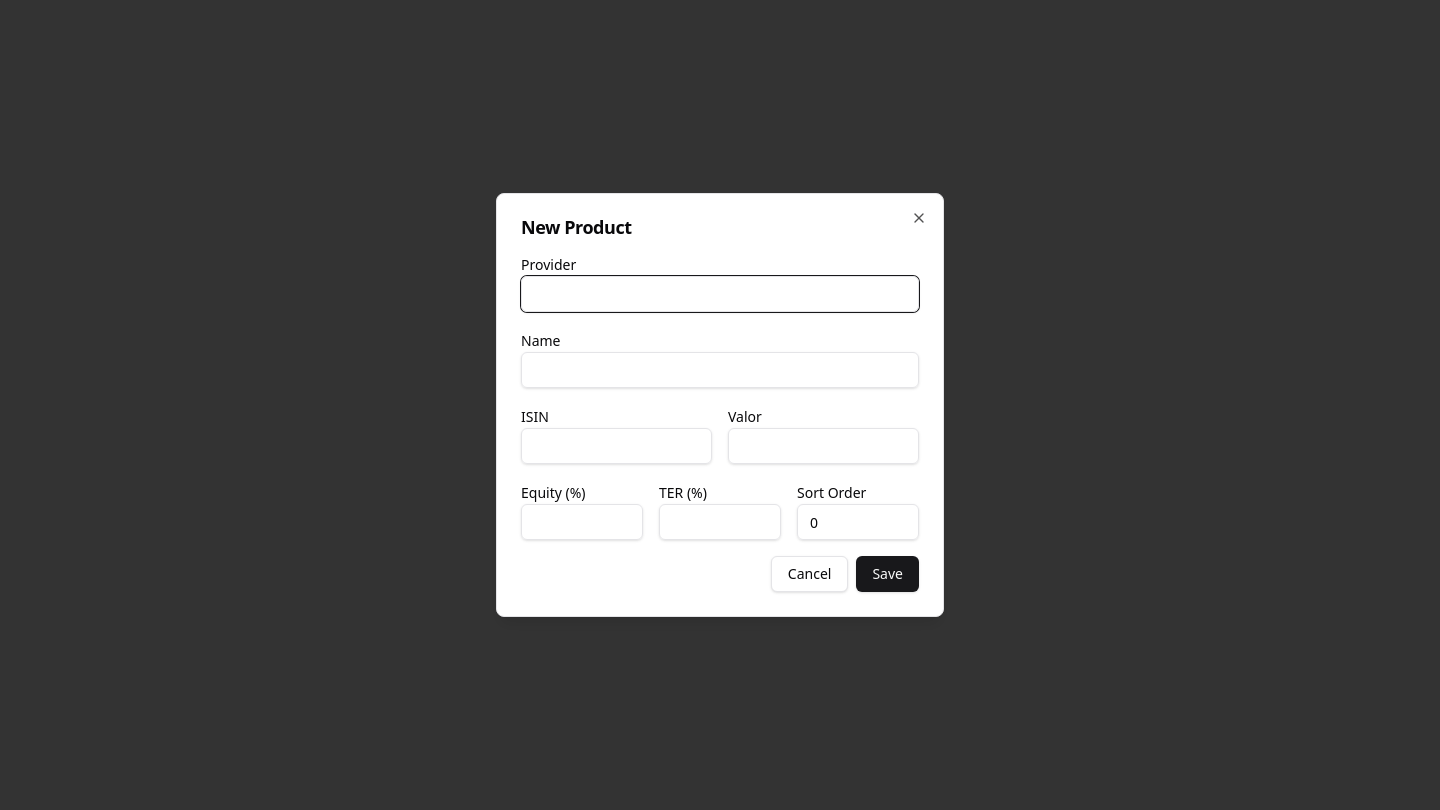
Scenario: ProductFormDialog › blocks the submit when the equity share exceeds 100
In the field labelled "Provider": (720, 294) [521,276,919,312], type "frankly"
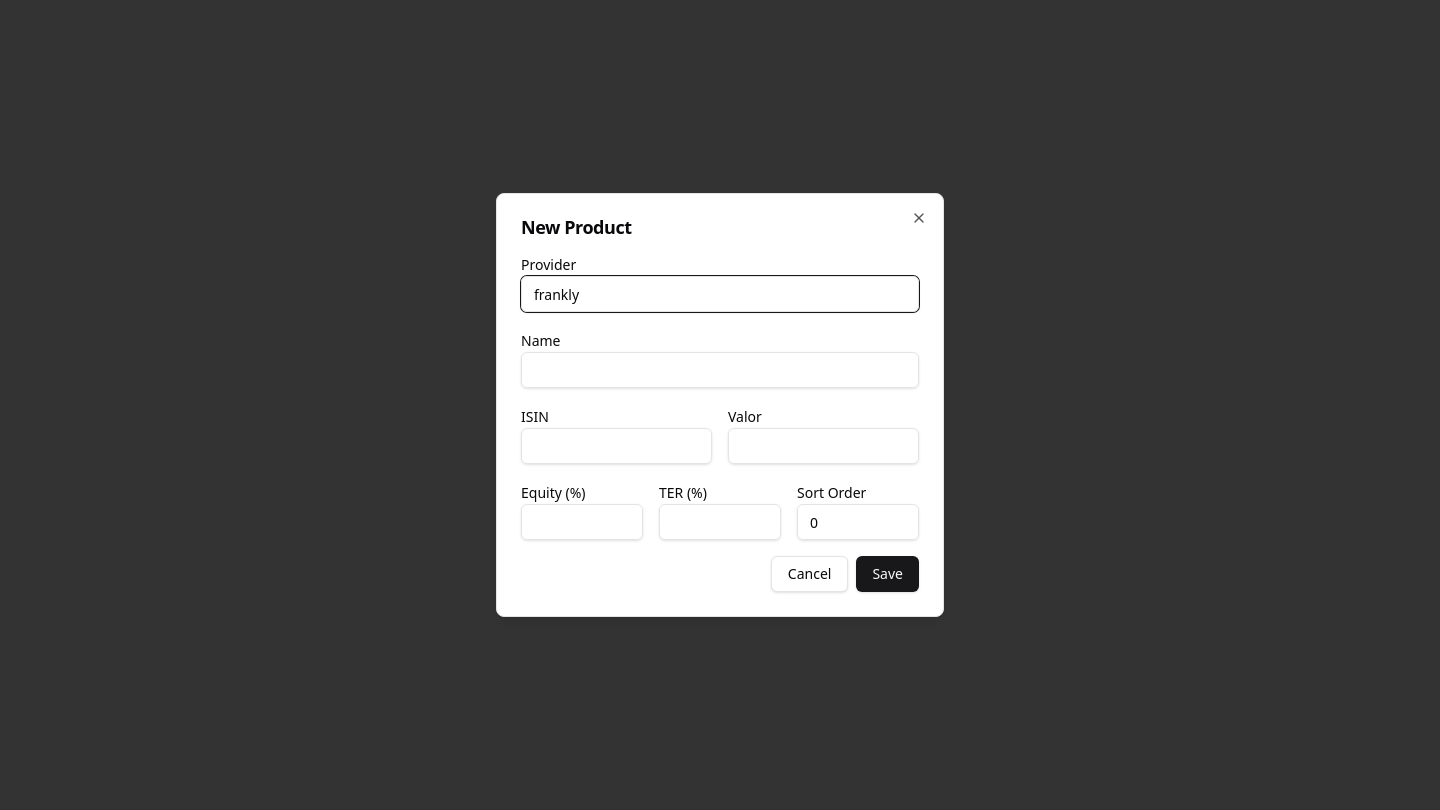
In the field labelled "Name": (720, 370) [521,352,919,388], type "Extreme 95"
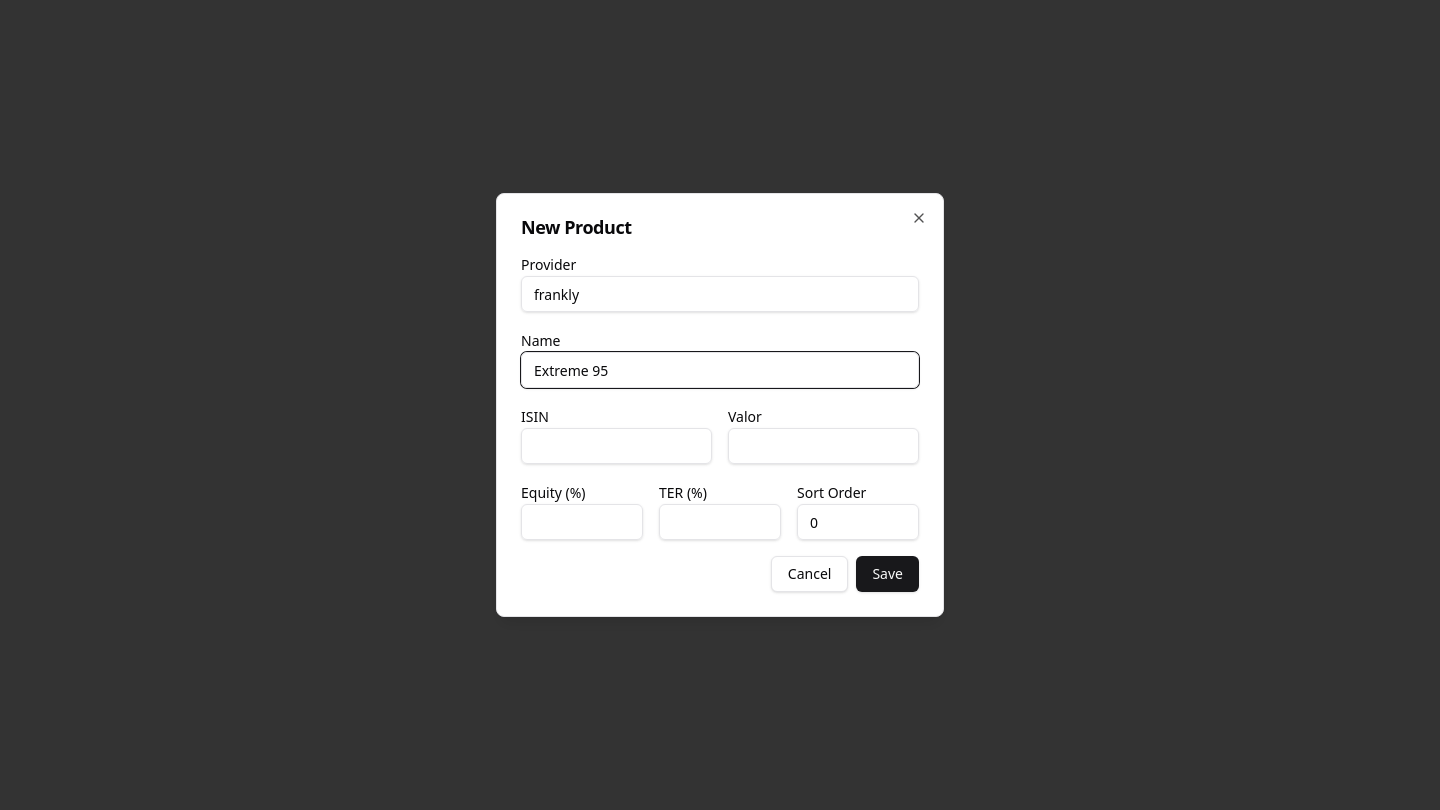
In the field labelled "ISIN": (616, 446) [521,428,712,464], type "CH0473243999"
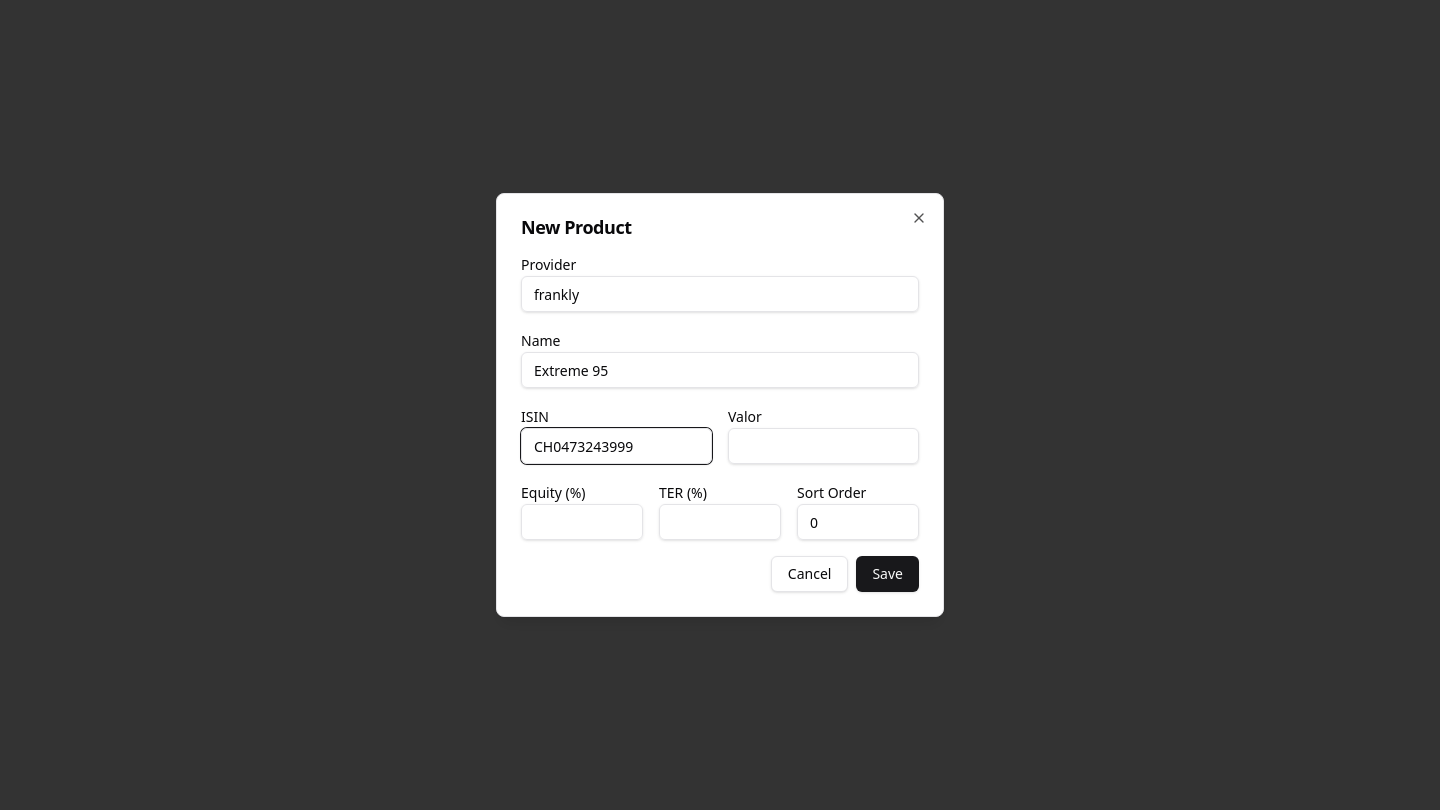
In the number field labelled "Equity (%)": (582, 522) [521,504,643,540], type "150"
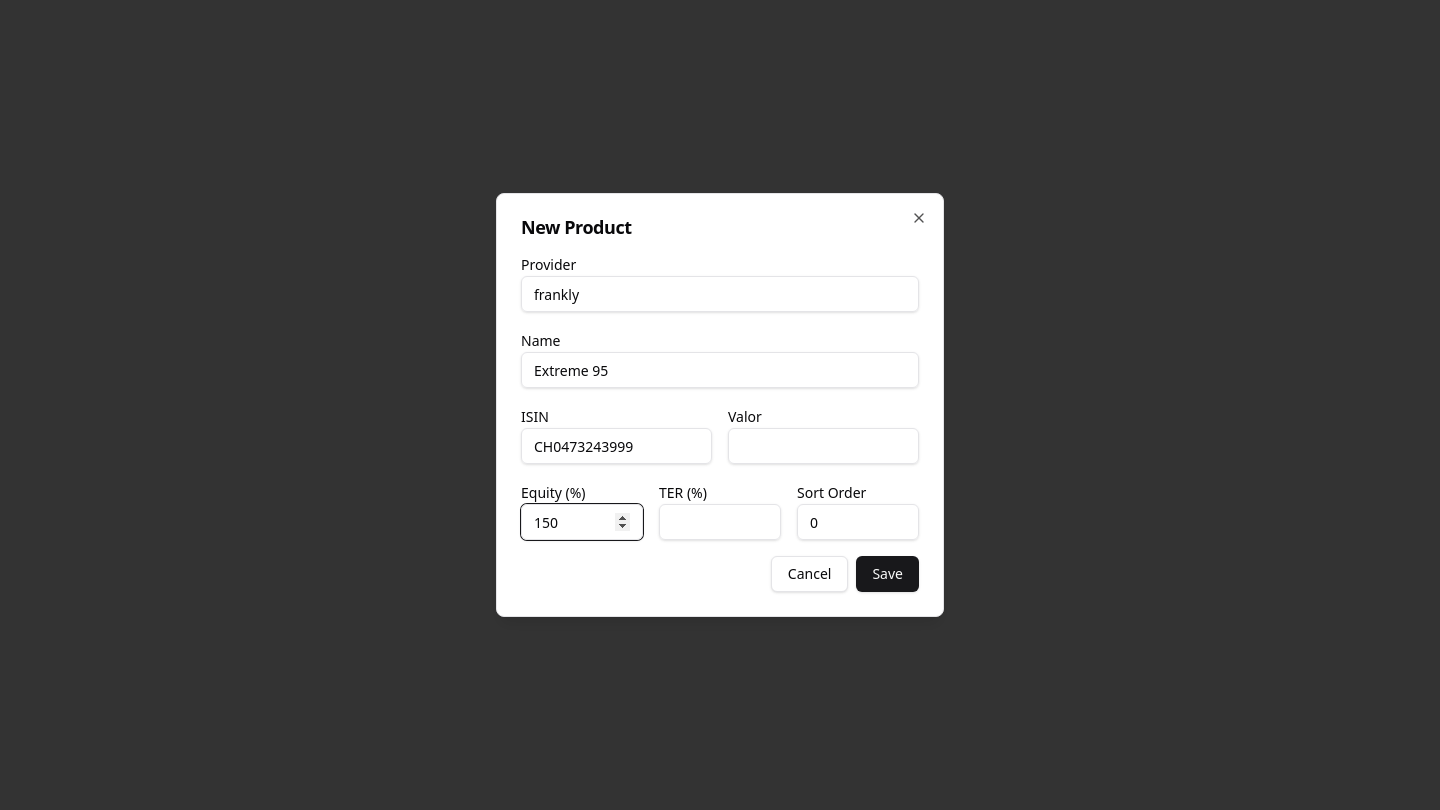
In the number field labelled "TER (%)": (720, 522) [659,504,781,540], type "0.44"
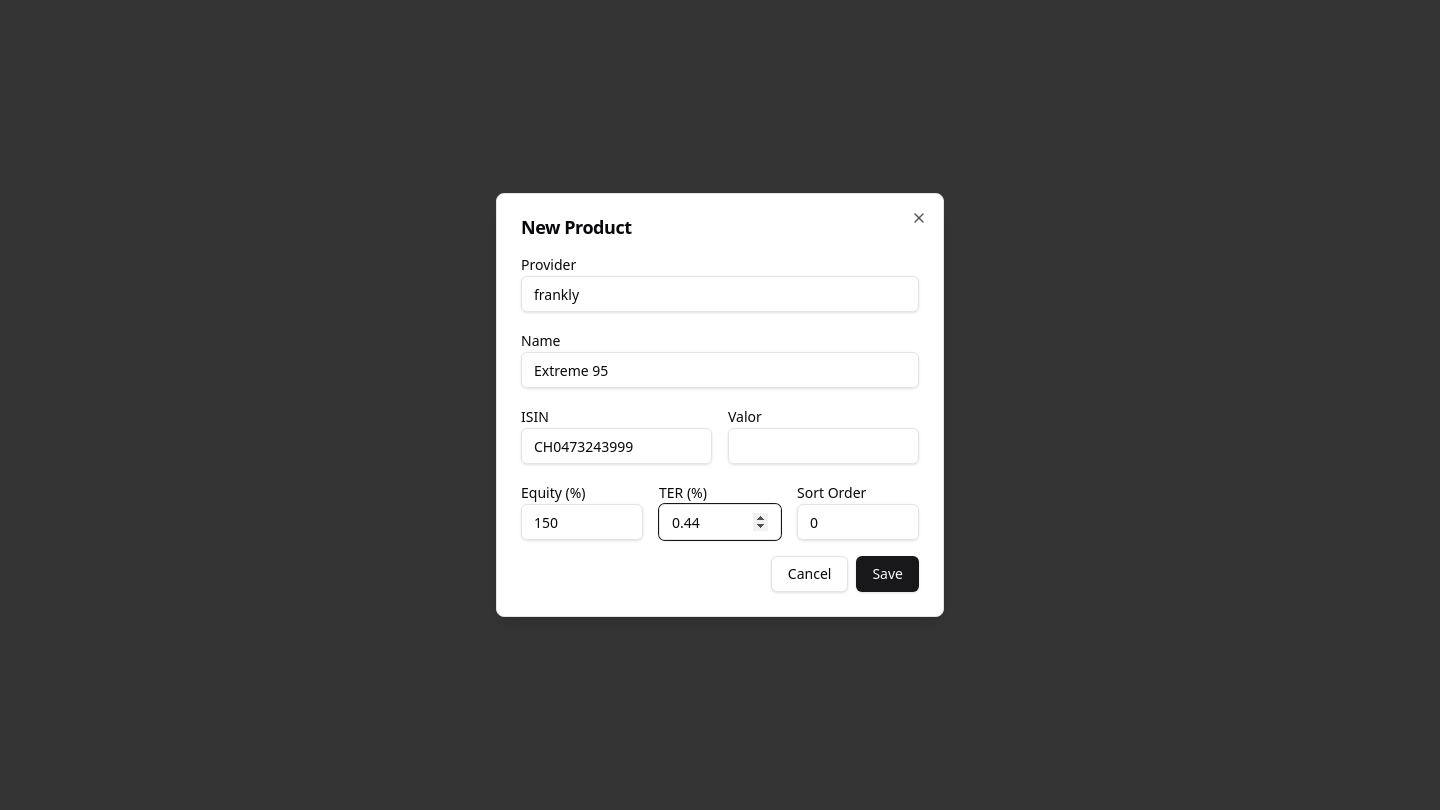
Click the button "Save": (888, 574) [856,556,919,592]
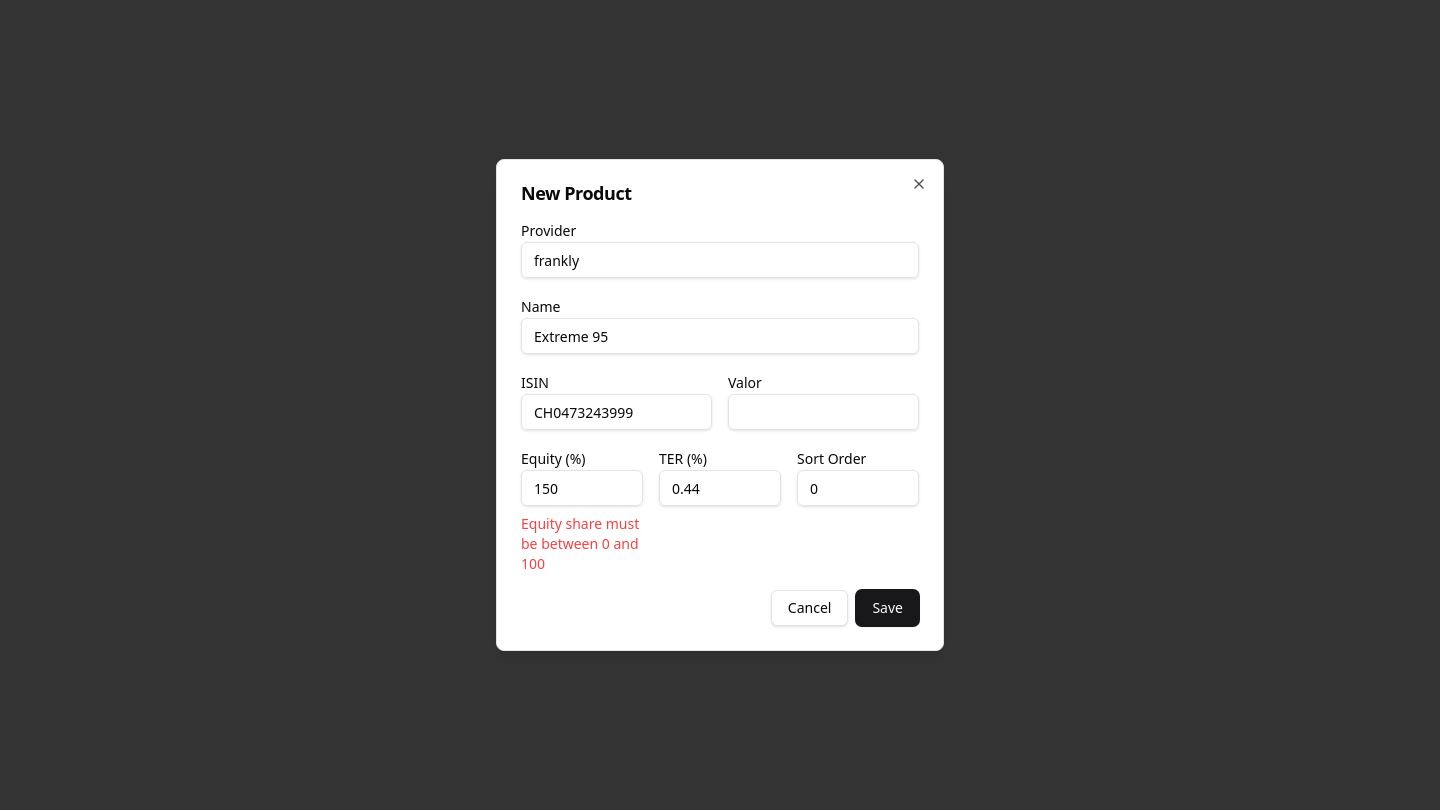
expect the text "Equity share must be between 0 and 100" is shown: met, box [521,514,643,574]
